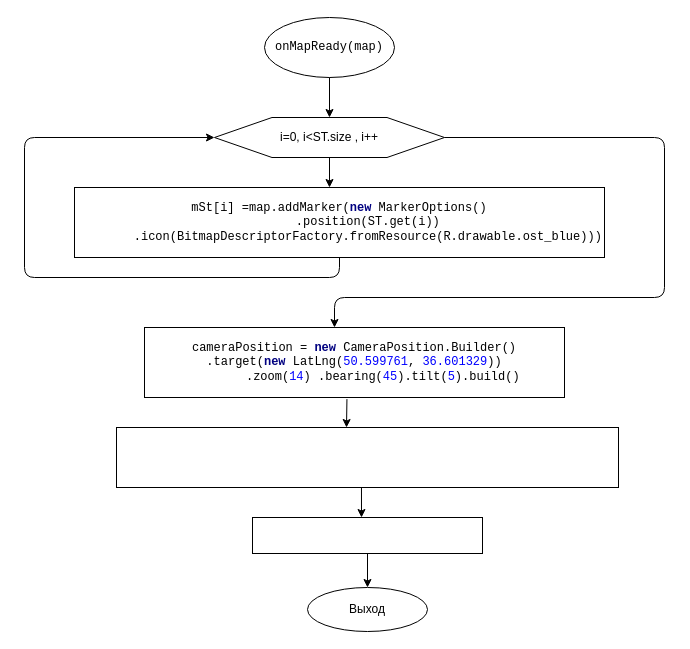
The diagram is 690 pixels wide and 649 high, and some of its shapes have lost their labels. Each missing label, with the centre of its shape:
cameraUpdate = CameraUpdateFactory.newCameraPosition(cameraPosition): the point at 367,457
map.animateCamera(cameraUpdate): the point at 367,535
